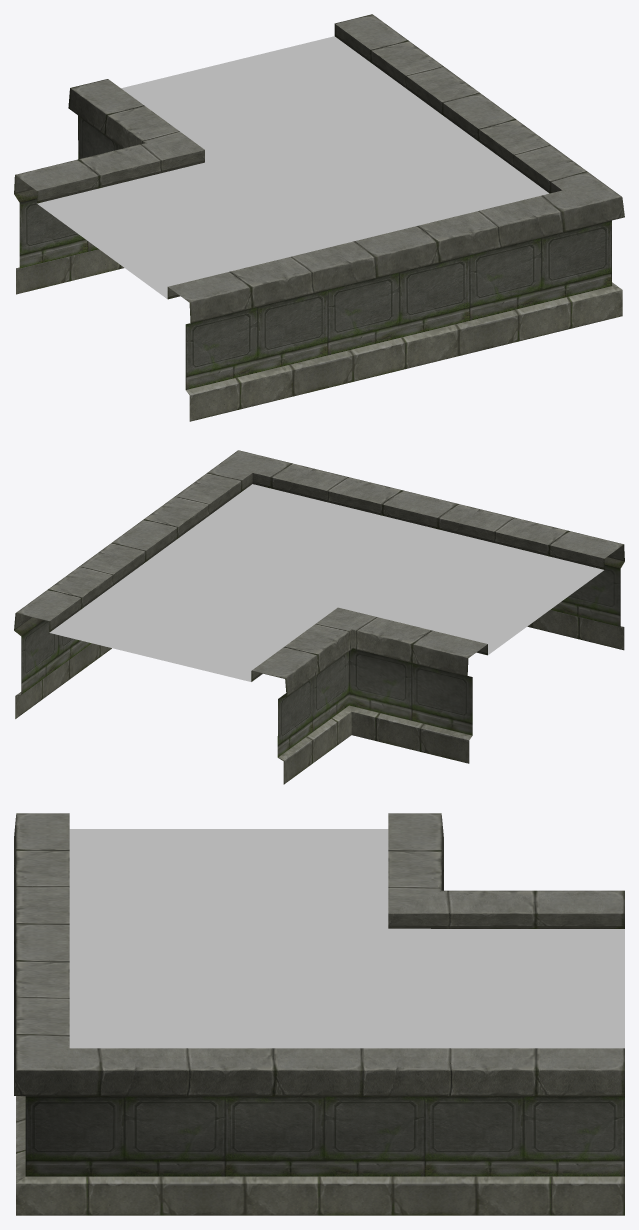
The model's file is JiaYeSi_HuaTanZu_3.FBX.
3 views of the same model, one above another, from view 1: azimuth 30°, elevation 25°; view 2: azimuth 150°, elevation 25°; view 3: azimuth 270°, elevation 25° (orthographic). The views are drawn at different scales.
Visible parts, largest first — view 1: JiaYeSi_HuaTanZu_3a, JiaYeSi_HuaTanZu_3b; view 2: JiaYeSi_HuaTanZu_3a, JiaYeSi_HuaTanZu_3b; view 3: JiaYeSi_HuaTanZu_3a, JiaYeSi_HuaTanZu_3b.
Part boxes in pixels (x1,y1,x2,y2): JiaYeSi_HuaTanZu_3a: [14, 14, 624, 421]; JiaYeSi_HuaTanZu_3b: [37, 36, 549, 298]; JiaYeSi_HuaTanZu_3a: [14, 450, 624, 784]; JiaYeSi_HuaTanZu_3b: [49, 484, 603, 682]; JiaYeSi_HuaTanZu_3a: [14, 813, 624, 1215]; JiaYeSi_HuaTanZu_3b: [69, 829, 624, 1048].
Bounding box in the file's own units: 917 × 240 × 917.
